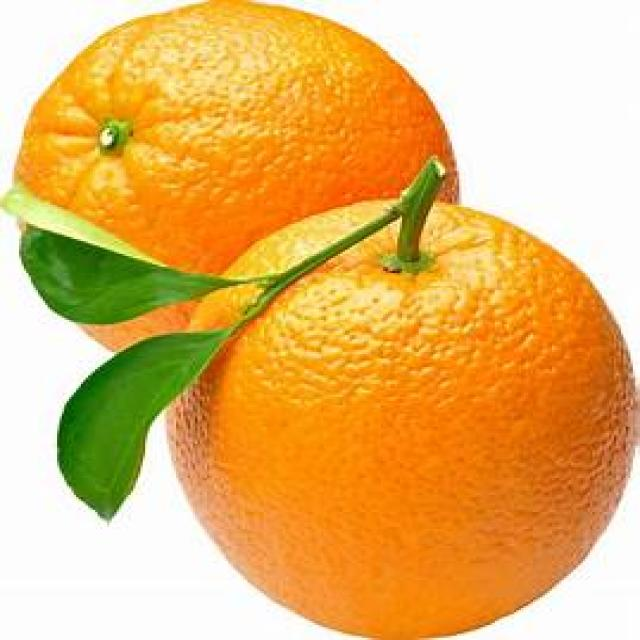orange: (164, 192, 640, 640), (10, 0, 470, 204)
